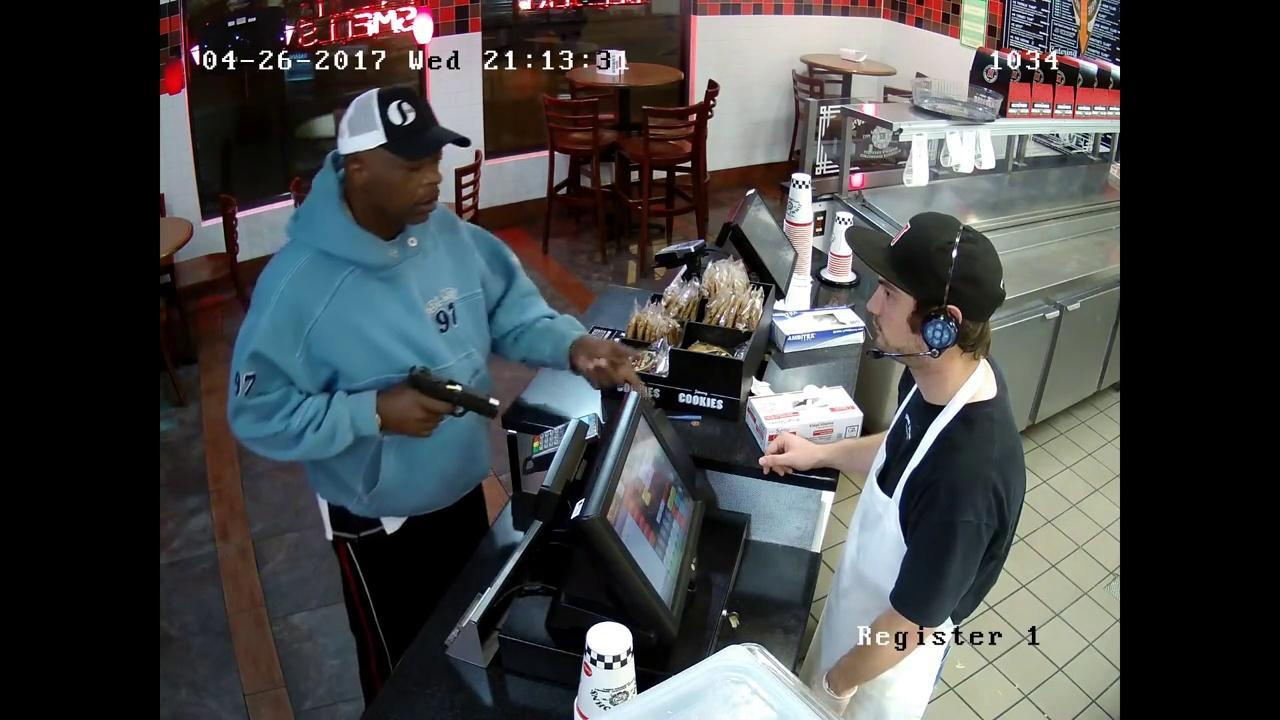Guns: (363, 347, 523, 440)
